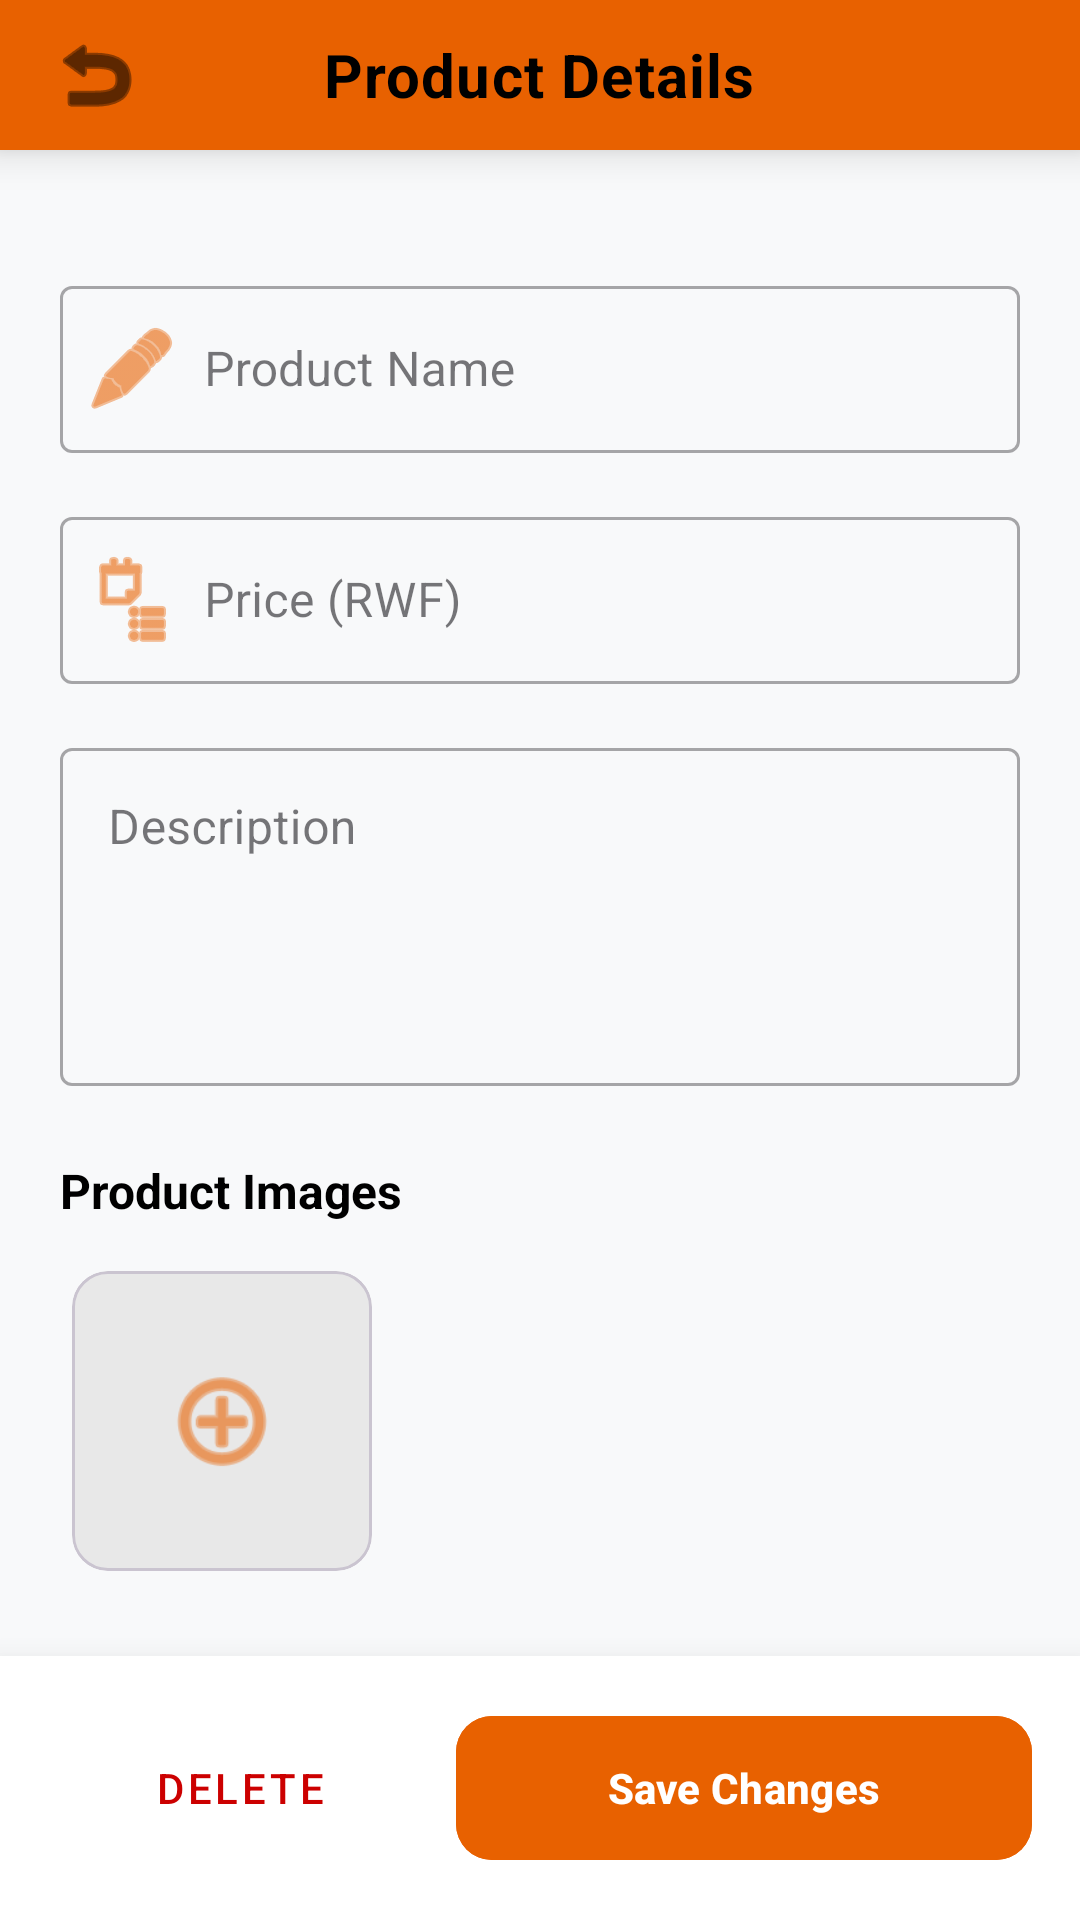

Where icons sit on this 1080*1920 app screen, as detection(x1, y1, x2, y2):
add: detection(177, 1377, 267, 1466)
Back: detection(63, 44, 132, 107)
